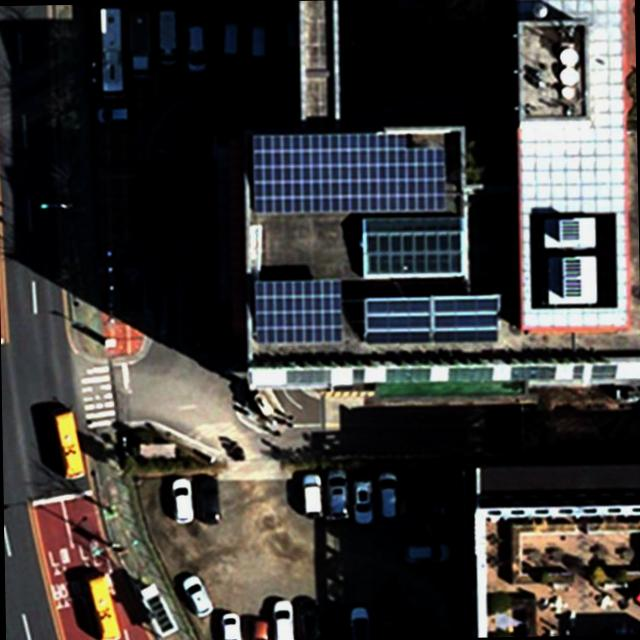solar: (250, 128, 447, 214), (362, 292, 500, 344), (252, 278, 346, 344)
